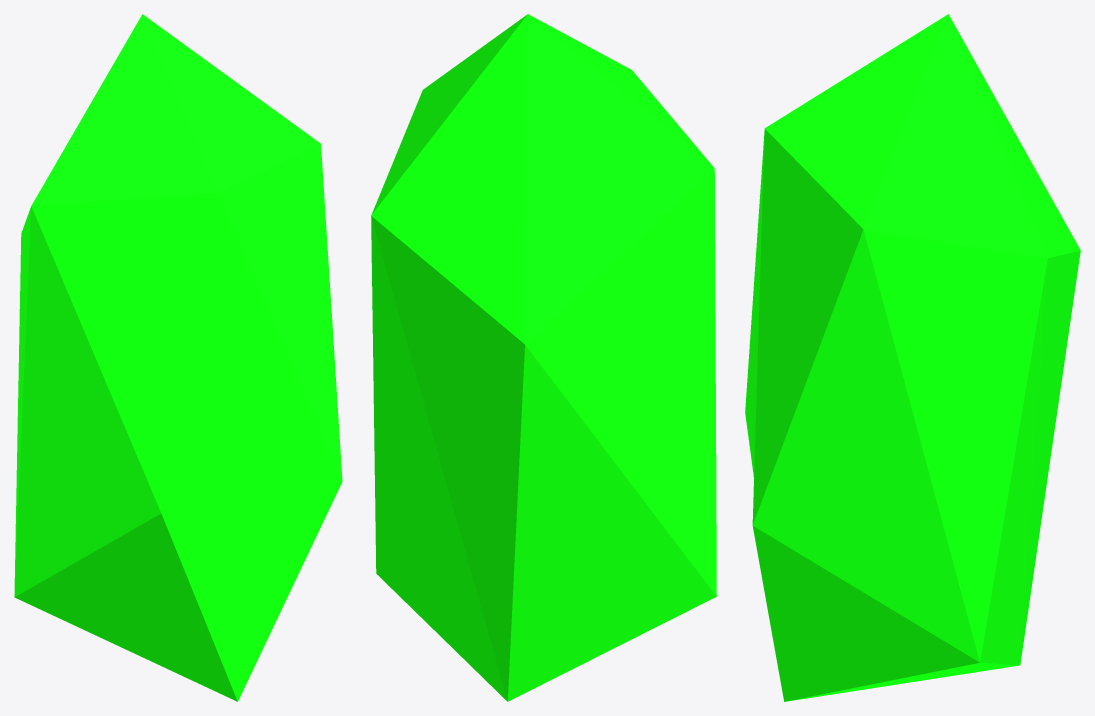
The model's file is Dream2_Crystal.glb.
3 views of the same model, side by side, from view 1: azimuth 30°, elevation 25°; view 2: azimuth 150°, elevation 25°; view 3: azimuth 270°, elevation 25° (orthographic). The views are drawn at different scales.
Parts seen in each view (by area): view 1: Final_Crystal; view 2: Final_Crystal; view 3: Final_Crystal.
Part boxes in pixels (box(x1,y1,x2,y2)): Final_Crystal: box(14, 14, 342, 701); Final_Crystal: box(371, 14, 716, 701); Final_Crystal: box(745, 14, 1080, 701).
Bounding box in the file's own units: 0.7605 × 1.59 × 0.7115.
